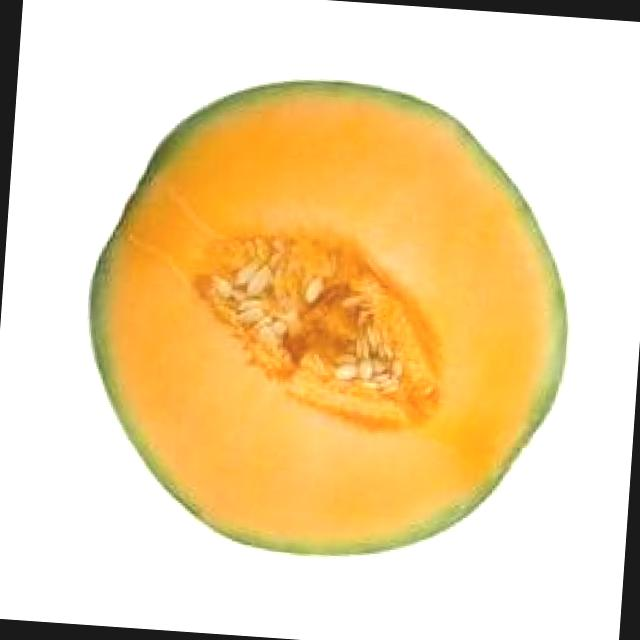cantaloupe: (72, 65, 585, 572)
